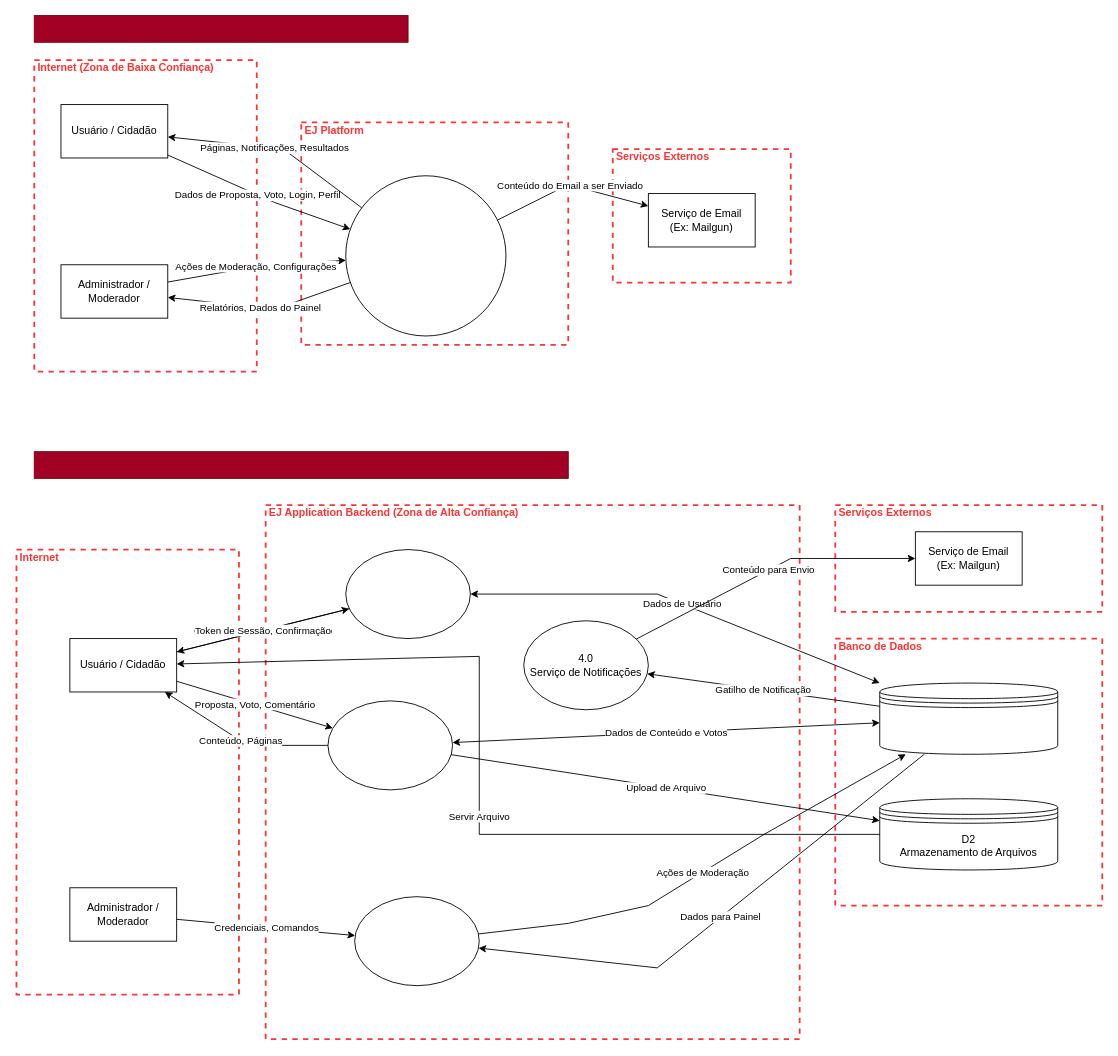
The diagram is 1118 pixels wide and 1056 high, and some of its shapes have lost their labels. The centre of each missing label's shape, as x and y in pixels:
0 EJ Platform: the point at 425,255
1.0 Gerenciamento de Usuários e Autenticação: the point at 407,594
2.0 Gestão de Conteúdo e Participação: the point at 390,745
3.0 Painel Administrativo: the point at 416,941
D1 Banco de Dados da Aplicação (PostgreSQL): the point at 968,718
DFD Nível 0 - Diagrama de Contexto: the point at 220,28
DFD Nível 1 - Detalhamento Macro com Fronteiras de Confiança: the point at 300,464
